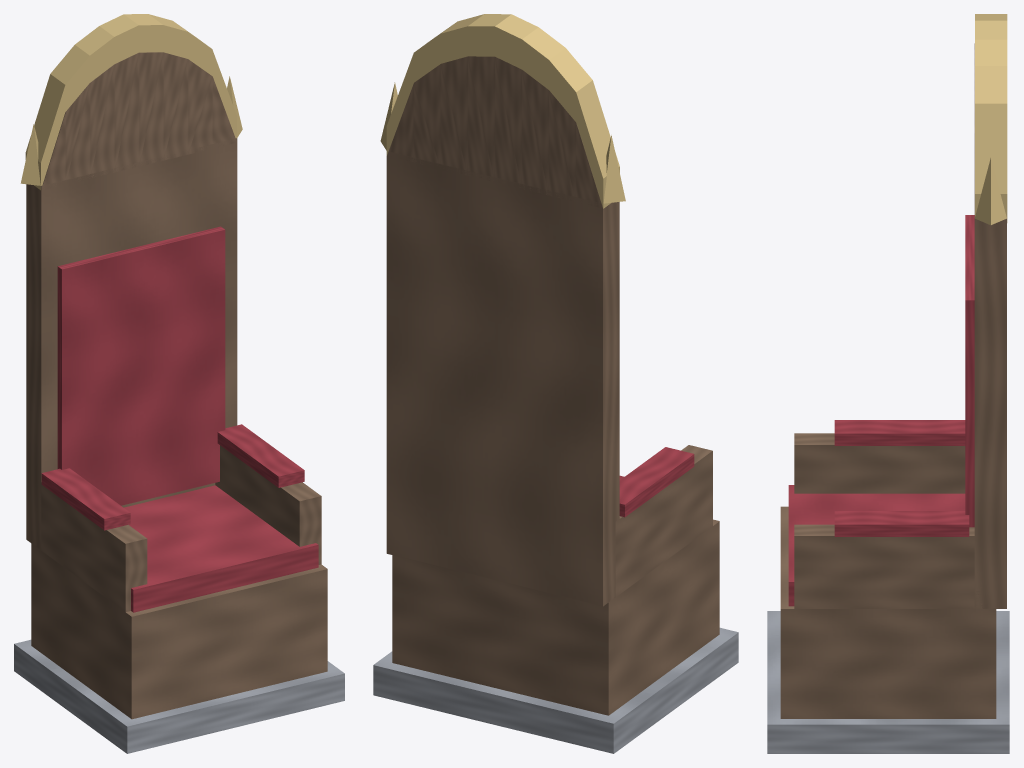
The picture shows the model from 3 angles, left to right: view 1: azimuth 30°, elevation 25°; view 2: azimuth 150°, elevation 25°; view 3: azimuth 270°, elevation 25°; orthographic projection. The views are drawn at different scales.
Visible parts, largest first — view 1: velvet-throne; view 2: velvet-throne; view 3: velvet-throne.
Boxes of the visible parts, x1,y1,x2,y2 form: velvet-throne: (14,14,344,753); velvet-throne: (373,14,738,753); velvet-throne: (767,14,1009,753).
Size of the model in its own units: 1.02 by 2.77 by 0.9.
4 materials, 3 textured.
